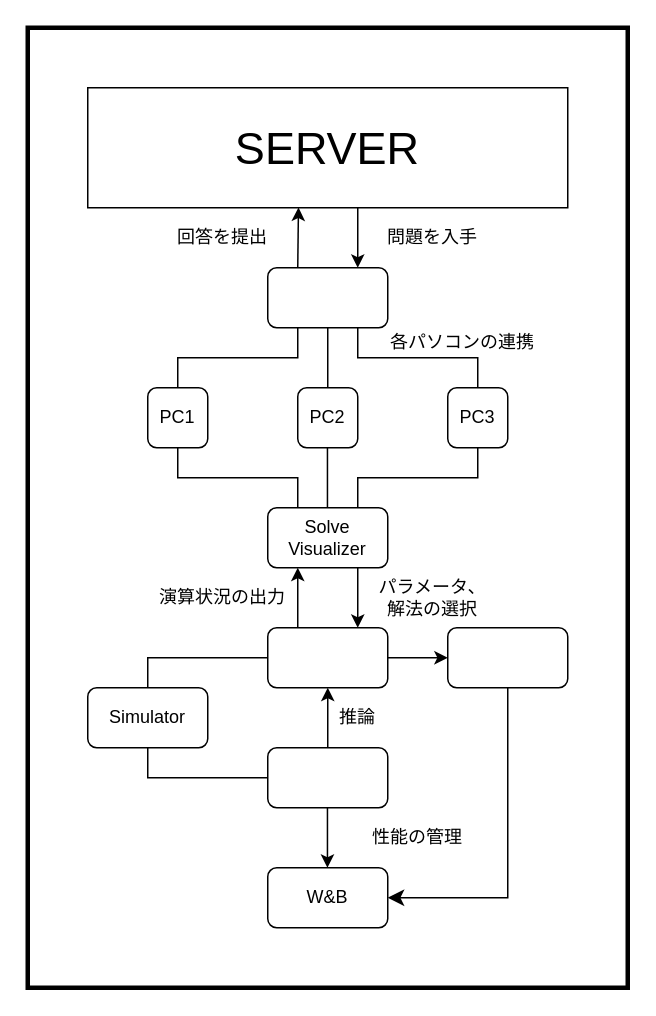
This 656x1016 diagram has some shape labels left out. The centre of each missing label's shape, as x and y in pixels:
Benchmark: the point at 507,657
Model: the point at 327,777
Server Visualizer: the point at 327,297
Solver: the point at 327,657
